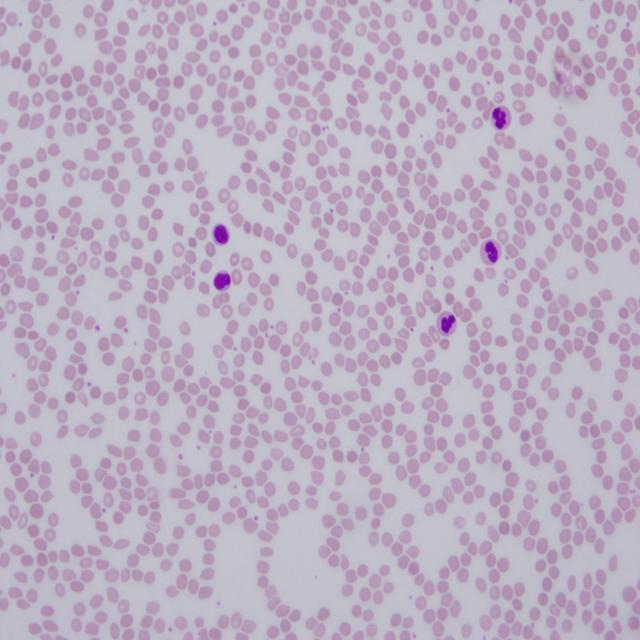cell: (480, 239, 501, 266), (491, 105, 511, 131), (436, 311, 456, 336)
